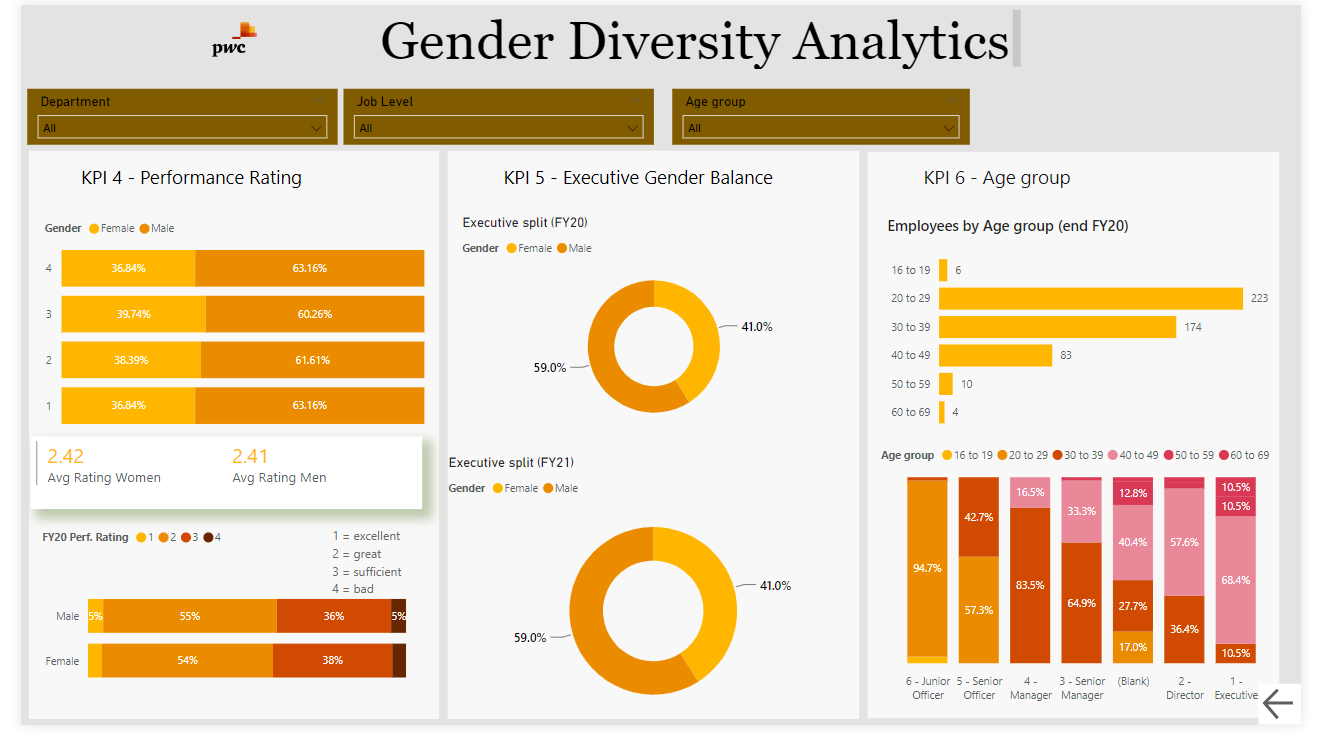

The page's visual inventory and layout, read from the dashboard file:
{"tool":"powerbi","page":{"name":"HR Manger 2 KPI ","canvas":[1280,720],"ordinal":1},"visuals":[{"type":"basicShape","box":[3.9,139.9,418.6,579.7],"z":0},{"type":"slicer","fields":{"Values":["HR Manager.Job Level after FY20 promotions"]},"box":[322.5,83.9,310,55.9],"z":1000},{"type":"slicer","fields":{"Values":["HR Manager.Age group"]},"box":[651.2,83.8,297.5,56.2],"z":2000},{"type":"textbox","box":[161.2,0,843.8,68.8],"z":3000},{"type":"basicShape","box":[422.2,139.6,420,579.7],"z":5000},{"type":"basicShape","box":[1.2,152.5,407.5,40],"z":6000},{"type":"textbox","box":[54.6,154.4,315.4,35.7],"z":7000},{"type":"multiRowCard","fields":{"Values":["HR Manager.Avg Rating Women","HR Manager.Avg Rating Men"]},"box":[10.1,431.1,390.9,72.6],"z":8000},{"type":"hundredPercentStackedBarChart","fields":{"Series":["HR Manager.FY20 Performance Rating"],"Category":["HR Manager.Gender"],"Y":["CountNonNull(HR Manager.Employee ID)"]},"box":[16.8,513.8,374.2,205.5],"z":9000},{"type":"image","box":[854.5,413.3,6.7,35.7],"z":10000},{"type":"basicShape","box":[842.2,141.8,420,577.5],"z":13000},{"type":"slicer","fields":{"Values":["HR Manager.Last Department in FY20"]},"box":[6.8,83.9,310,55.9],"z":15000},{"type":"textbox","box":[477.9,154.4,315.4,35.7],"z":17000},{"type":"textbox","box":[897.8,154.4,315.4,35.7],"z":19000},{"type":"hundredPercentStackedBarChart","fields":{"Category":["HR Manager.FY20 Performance Rating"],"Series":["HR Manager.Gender"],"Y":["Count(HR Manager.Employee ID)"]},"box":[19,204.4,389.8,225.6],"z":21000},{"type":"textbox","box":[306,516,100.5,81.5],"z":22000},{"type":"donutChart","title":"Executive split (FY21)","fields":{"Category":["HR Manager.Gender"],"Y":["CountNonNull(HR Manager.Employee ID)"]},"box":[422.5,450,420,270],"z":23000},{"type":"donutChart","title":"Executive split (FY20)","fields":{"Category":["HR Manager.Gender"],"Y":["CountNonNull(HR Manager.Employee ID)"]},"box":[436.2,210,393.8,221.2],"z":24000},{"type":"clusteredBarChart","title":"Employees by Age group (end FY20)","fields":{"Category":["HR Manager.Age group"],"Y":["CountNonNull(HR Manager.Employee ID)"]},"box":[861.2,210,392,225.6],"z":28000},{"type":"hundredPercentStackedColumnChart","fields":{"Category":["HR Manager.Job Level after FY21 promotions"],"Series":["HR Manager.Age group"],"Y":["CountNonNull(HR Manager.Employee ID)"]},"box":[854.5,431.1,406.6,273.6],"z":29000},{"type":"actionButton","box":[1237.6,679.1,42.4,40.5],"z":31000}]}

Visuals, with their boxes in screenshot pixels (x1, y1, x2, y2), scaled from the page's 1280x720 canvas onto the 1326x743 screenshot:
basicShape: region(4, 144, 438, 742)
slicer - HR Manager.Job Level after FY20 promotions: region(334, 87, 655, 144)
slicer - HR Manager.Age group: region(675, 86, 983, 144)
textbox: region(167, 0, 1041, 71)
basicShape: region(437, 144, 872, 742)
basicShape: region(1, 157, 423, 199)
textbox: region(57, 159, 383, 196)
multiRowCard - HR Manager.Avg Rating Women x HR Manager.Avg Rating Men: region(10, 445, 415, 520)
hundredPercentStackedBarChart - HR Manager.FY20 Performance Rating x HR Manager.Gender: region(17, 530, 405, 742)
image: region(885, 427, 892, 463)
basicShape: region(872, 146, 1308, 742)
slicer - HR Manager.Last Department in FY20: region(7, 87, 328, 144)
textbox: region(495, 159, 822, 196)
textbox: region(930, 159, 1257, 196)
hundredPercentStackedBarChart - HR Manager.FY20 Performance Rating x HR Manager.Gender: region(20, 211, 423, 444)
textbox: region(317, 532, 421, 617)
"Executive split (FY21)" donutChart: region(438, 464, 873, 742)
"Executive split (FY20)" donutChart: region(452, 217, 860, 445)
"Employees by Age group (end FY20)" clusteredBarChart: region(892, 217, 1298, 450)
hundredPercentStackedColumnChart - HR Manager.Job Level after FY21 promotions x HR Manager.Age group: region(885, 445, 1306, 727)
actionButton: region(1282, 701, 1325, 742)
